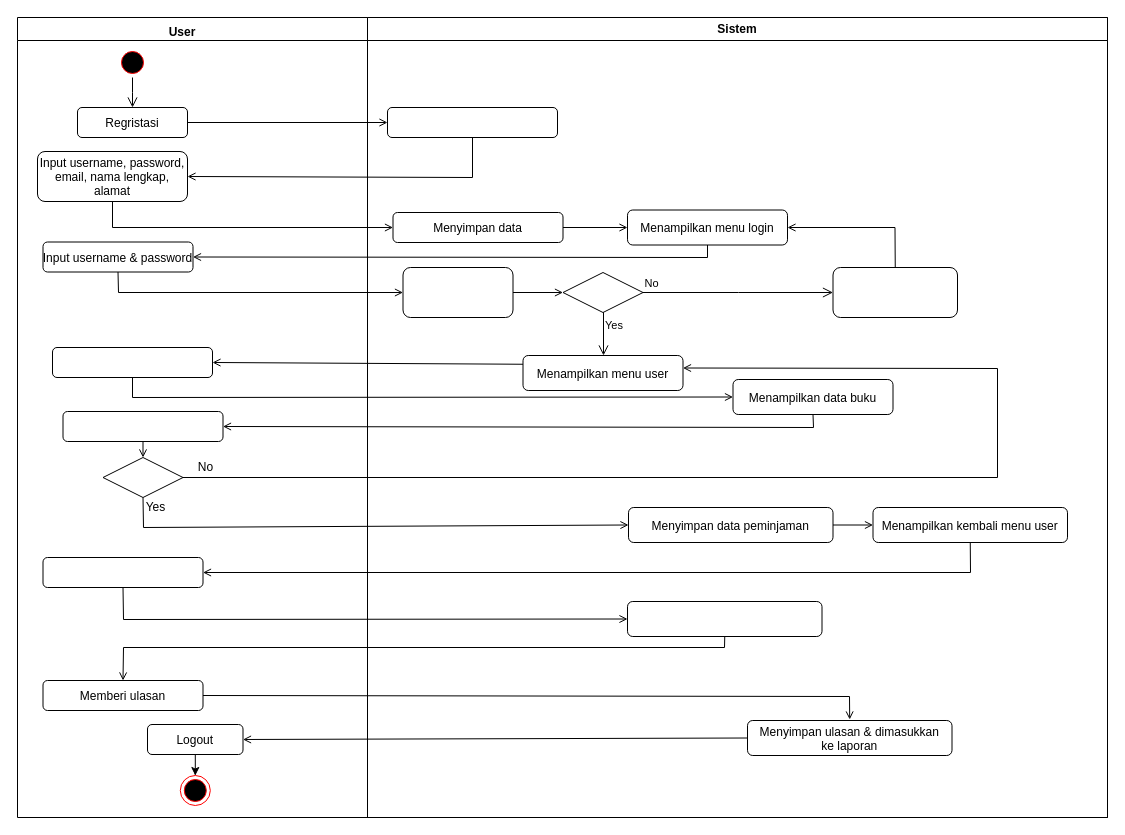
Image size: 1125x835. Some labels were removed from this diagram. Here are the shapes that lost their labels. From the top down, the box of each, then its label:
(386, 106, 558, 138): Menampilkan menu regristasi
(402, 266, 513, 318): Verifikasi username & password
(832, 266, 958, 318): Password & username salah
(52, 346, 212, 378): Mencari data buku
(62, 410, 223, 442): Melakukan peminjaman
(42, 556, 203, 588): Mengklik menu ulasan
(626, 600, 822, 636): Menampilkan menu ulasan
